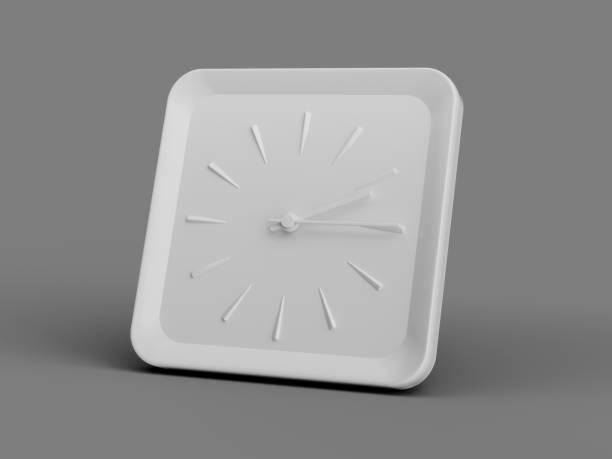clock: (128, 63, 474, 387)
